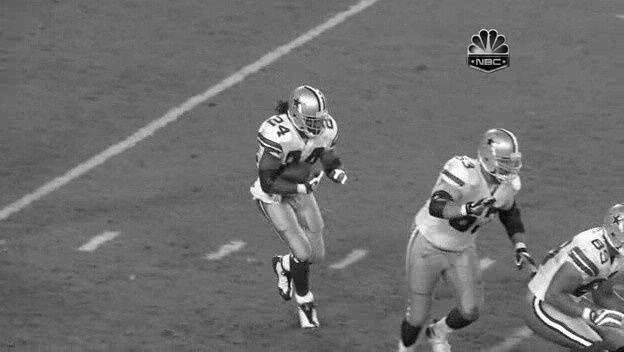person: (292, 87, 328, 133), (291, 87, 327, 133), (293, 87, 329, 133), (292, 86, 328, 132), (292, 88, 328, 134)
target_negative: (294, 32, 425, 298), (260, 187, 499, 328), (64, 150, 434, 199), (528, 98, 561, 180), (503, 329, 601, 345), (251, 333, 452, 336)
